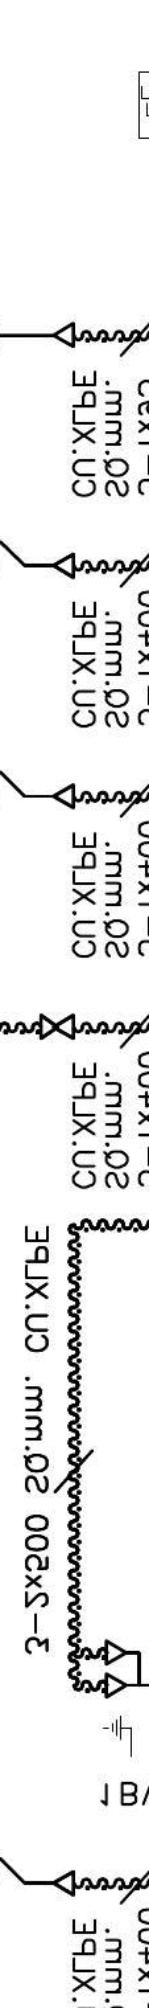terminator_double: (104, 1638, 143, 1701)
terminator_single: (53, 551, 77, 581), (53, 781, 77, 812), (53, 320, 77, 350), (53, 1868, 77, 1898)
terminator_splicing_kits: (39, 1013, 76, 1041)
